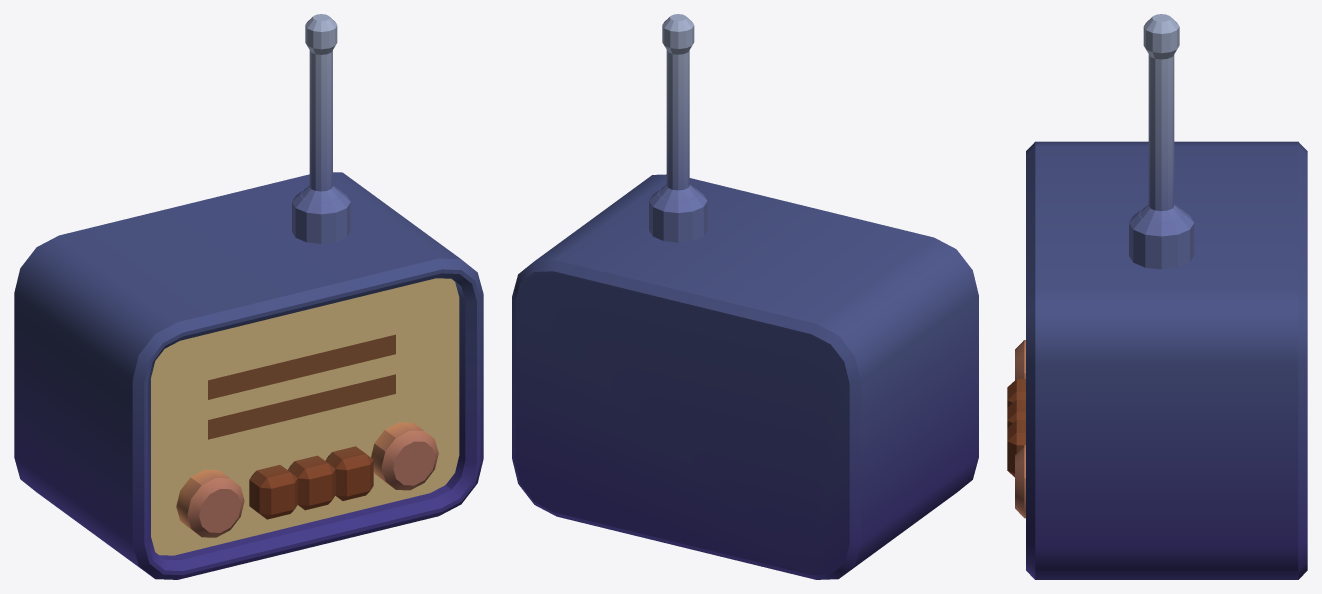
Rendered from Radio.fbx.
3 renders of one model, left to right at view 1: azimuth 30°, elevation 25°; view 2: azimuth 150°, elevation 25°; view 3: azimuth 270°, elevation 25°, orthographic. The views are drawn at different scales.
Parts seen in each view (by area): view 1: Radio; view 2: Radio; view 3: Radio.
Boxes of the visible parts, <box> form: Radio: <box>14,14,483,579</box>; Radio: <box>512,14,978,579</box>; Radio: <box>1007,14,1307,579</box>.
Bounding box in the file's own units: 145 × 186 × 96.58.
